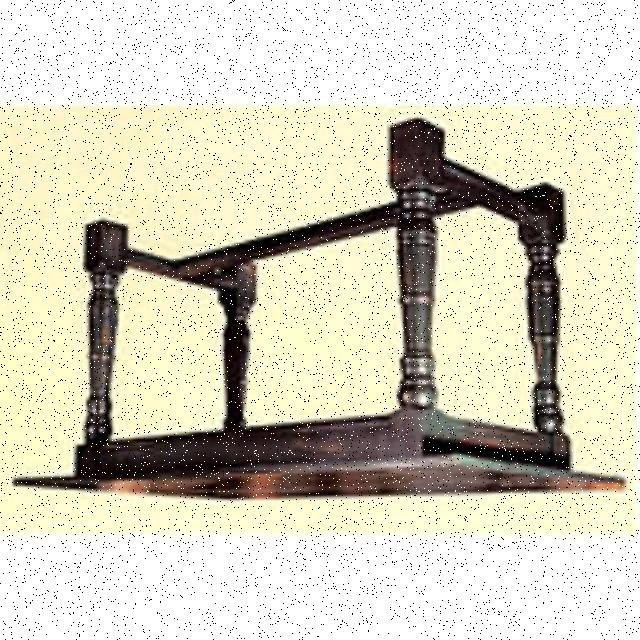mobile-phone: (4, 111, 625, 512)
